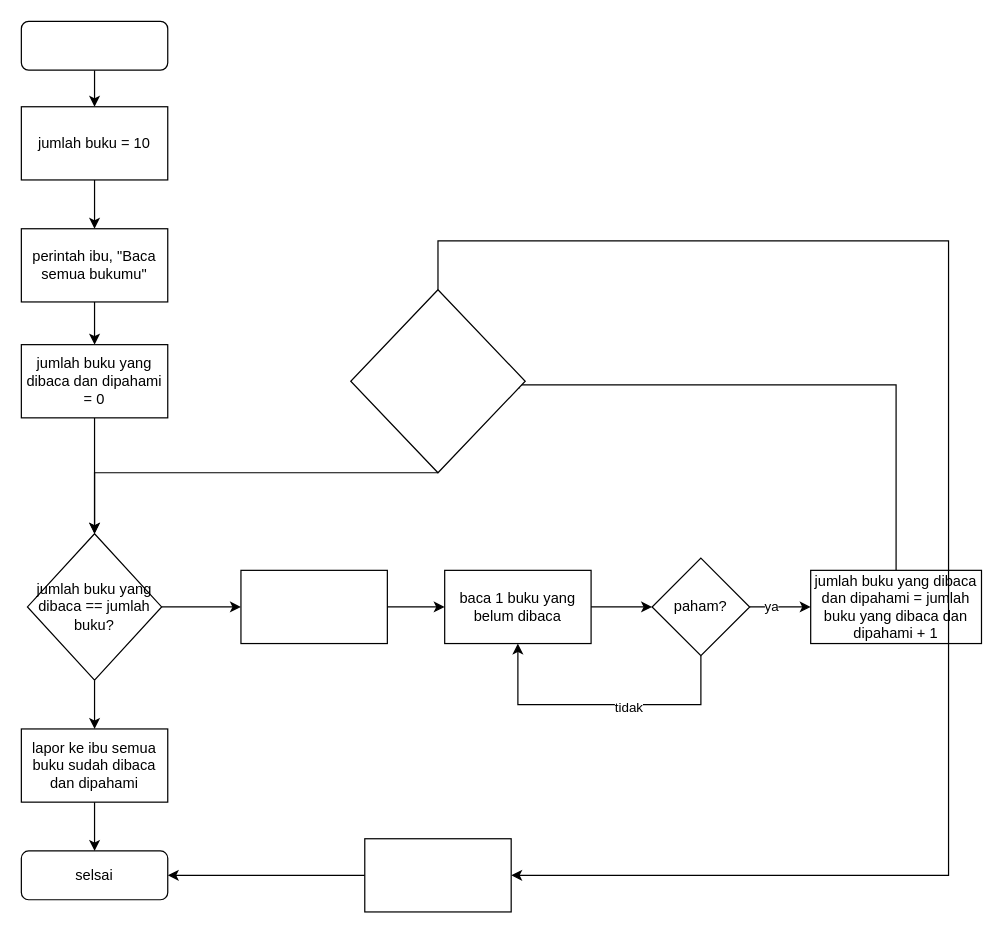
Image size: 1003x933. Some labels were removed from this diagram. Here are the shapes that lost their labels. From the top down, the box of each, then its label:
(20, 20, 168, 70): mulai
(350, 289, 525, 473): total jumlah baca <= jumlah buku * 2 ?
(240, 569, 387, 644): total jumlah baca = total jumlah baca + 1
(364, 838, 511, 912): lapor ke ibu bahwa tidak semua buku bisa dipahami
